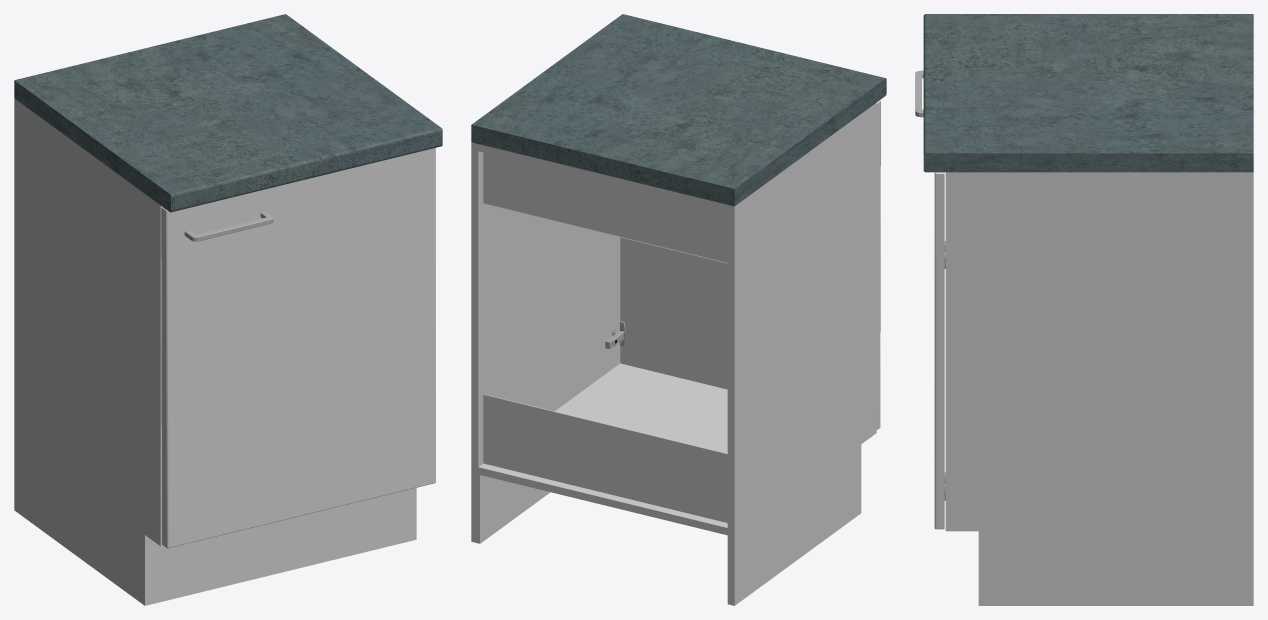
Rendered from example.gltf.
3 renders of one model, left to right at view 1: azimuth 30°, elevation 25°; view 2: azimuth 150°, elevation 25°; view 3: azimuth 270°, elevation 25°, orthographic. The views are drawn at different scales.
Visible parts, largest first — view 1: front_Tür_600x720002, body.SPUD60_0, worktop_Arbeitsplatte, body_Sockel_Front, body_Sockel_Side_right, handle_Griff_263043; view 2: body.SPUD60_0, worktop_Arbeitsplatte, front_Tür_600x720002, body_Sockel_Side_right, body_Sockel_Side_left, body.SPUD60_1; view 3: body.SPUD60_0, worktop_Arbeitsplatte, body_Sockel_Side_left, front_Tür_600x720002, body_Sockel_Front.
Boxes of the visible parts, <box> form: front_Tür_600x720002: <box>161,148,435,548</box>; body.SPUD60_0: <box>14,98,162,546</box>; worktop_Arbeitsplatte: <box>14,14,442,212</box>; body_Sockel_Front: <box>142,487,416,605</box>; body_Sockel_Side_right: <box>14,439,142,603</box>; handle_Griff_263043: <box>184,211,273,241</box>; body.SPUD60_0: <box>471,103,876,536</box>; worktop_Arbeitsplatte: <box>471,14,886,206</box>; front_Tür_600x720002: <box>620,100,880,429</box>; body_Sockel_Side_right: <box>727,446,858,605</box>; body_Sockel_Side_left: <box>471,473,550,543</box>; body.SPUD60_1: <box>478,144,727,211</box>; body.SPUD60_0: <box>945,172,1253,531</box>; worktop_Arbeitsplatte: <box>923,14,1253,172</box>; body_Sockel_Side_left: <box>984,531,1253,605</box>; front_Tür_600x720002: <box>934,172,944,529</box>; body_Sockel_Front: <box>978,531,984,605</box>.
Size of what is drawn, in the model's own units: 0.6 by 0.908 by 0.6155.
5 materials, 1 textured.
